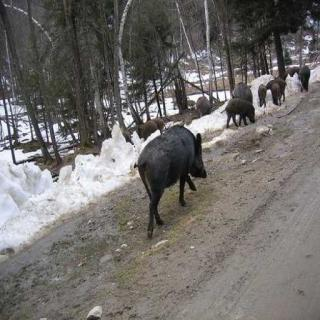Pig: (92, 85, 196, 209), (209, 71, 245, 144), (219, 72, 264, 114), (256, 58, 289, 110), (284, 50, 314, 96)
